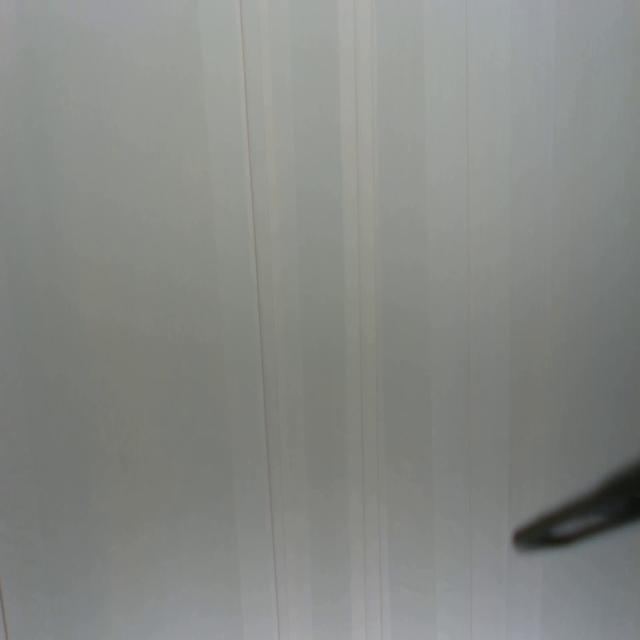crease: (239, 0, 281, 640), (351, 1, 369, 640), (370, 3, 384, 640), (464, 0, 475, 639)
